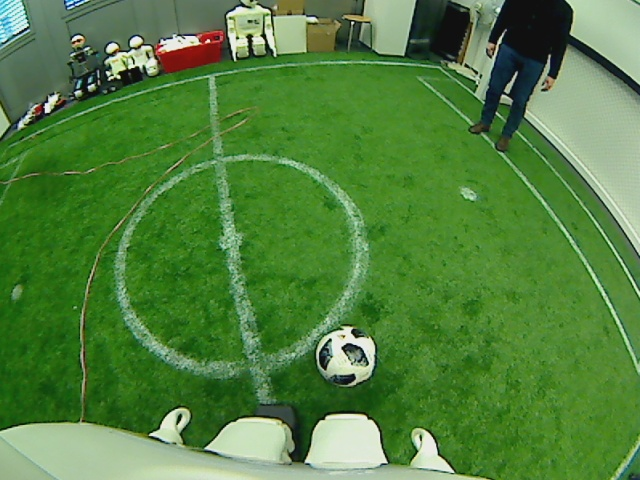ball: (312, 325, 377, 387)
